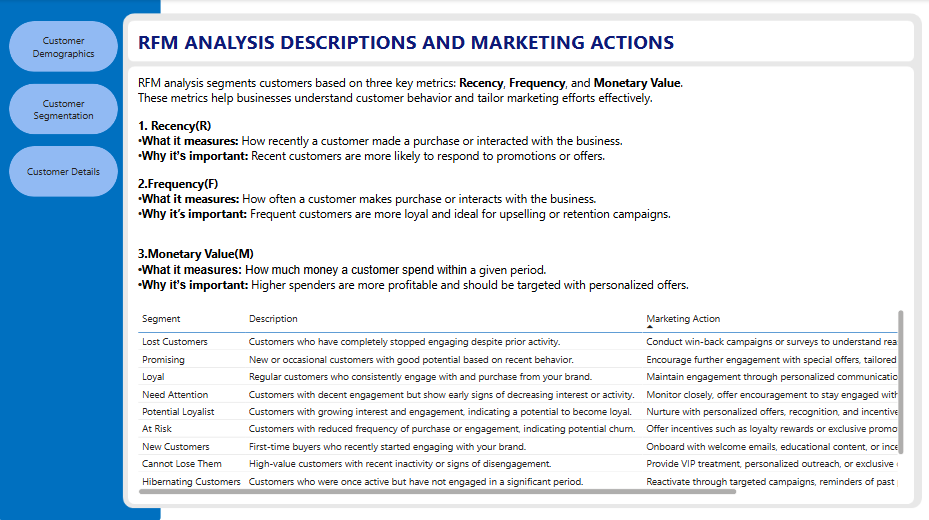

The dashboard page shown, as its layout file describes it:
{"tool":"powerbi","page":{"name":"Segment Description","canvas":[1280,720],"ordinal":3},"visuals":[{"type":"textbox","box":[184.4,98.5,1064.9,324.2],"z":0},{"type":"tableEx","fields":{"Values":["Segment Description.Segment","Segment Description.Description","Segment Description.Marketing Action"]},"box":[184.4,422.8,1064.9,265.4],"z":1},{"type":"textbox","box":[184.4,35,1064.9,46.1],"z":2},{"type":"pageNavigator","box":[12.7,30.2,151,244.8],"z":3}]}

Visuals, with their boxes on the page's 1280x720 design canvas (x1, y1, x2, y2). These are canvas units, not pixel positions in the 929x520 screenshot, which may show the page scaled, cropped or inside an application window:
textbox: {"x1": 184, "y1": 98, "x2": 1249, "y2": 423}
tableEx - Segment Description.Segment x Segment Description.Description: {"x1": 184, "y1": 423, "x2": 1249, "y2": 688}
textbox: {"x1": 184, "y1": 35, "x2": 1249, "y2": 81}
pageNavigator: {"x1": 13, "y1": 30, "x2": 164, "y2": 275}
